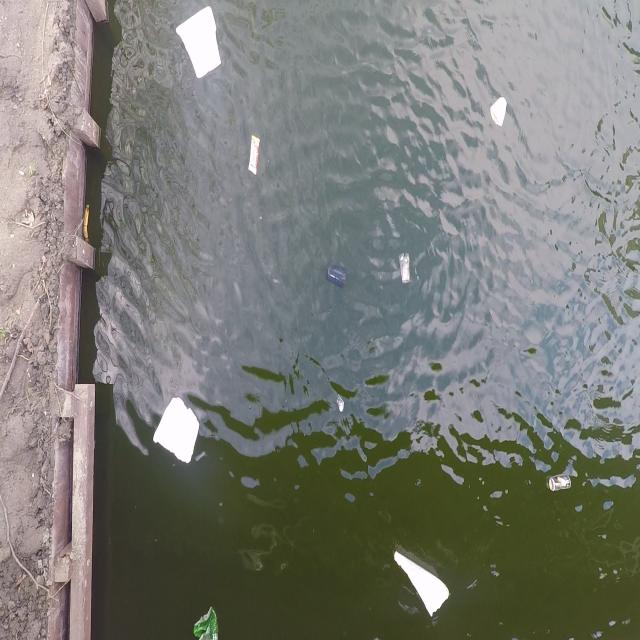Autre plastique: (391, 551, 454, 623), (150, 393, 202, 474), (174, 6, 224, 88)
Non plastique: (488, 96, 514, 134), (546, 473, 576, 497)
